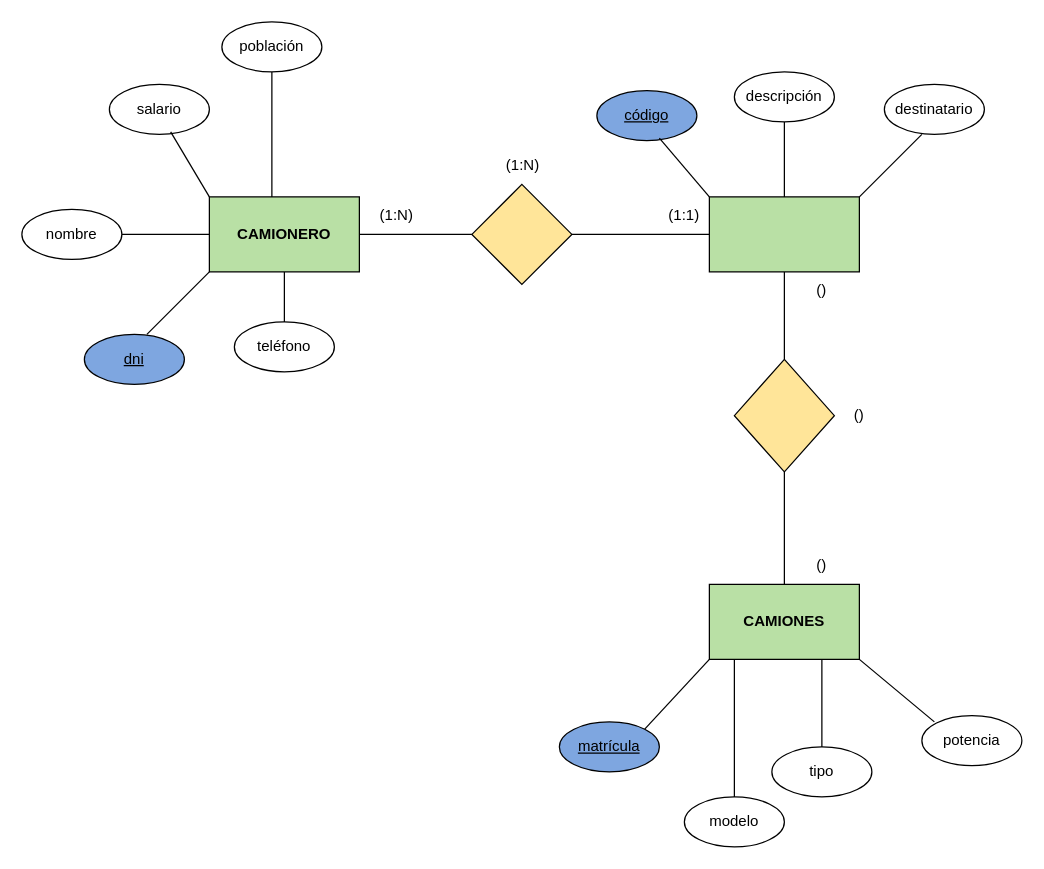
This 1044x869 diagram has some shape labels left out. Here are the shapes that lost their labels. From the top down, the centre of each, then its label:
At (521,233): "reparte".
At (783,234): "PAQUETE".
At (783,415): "transporta en".
